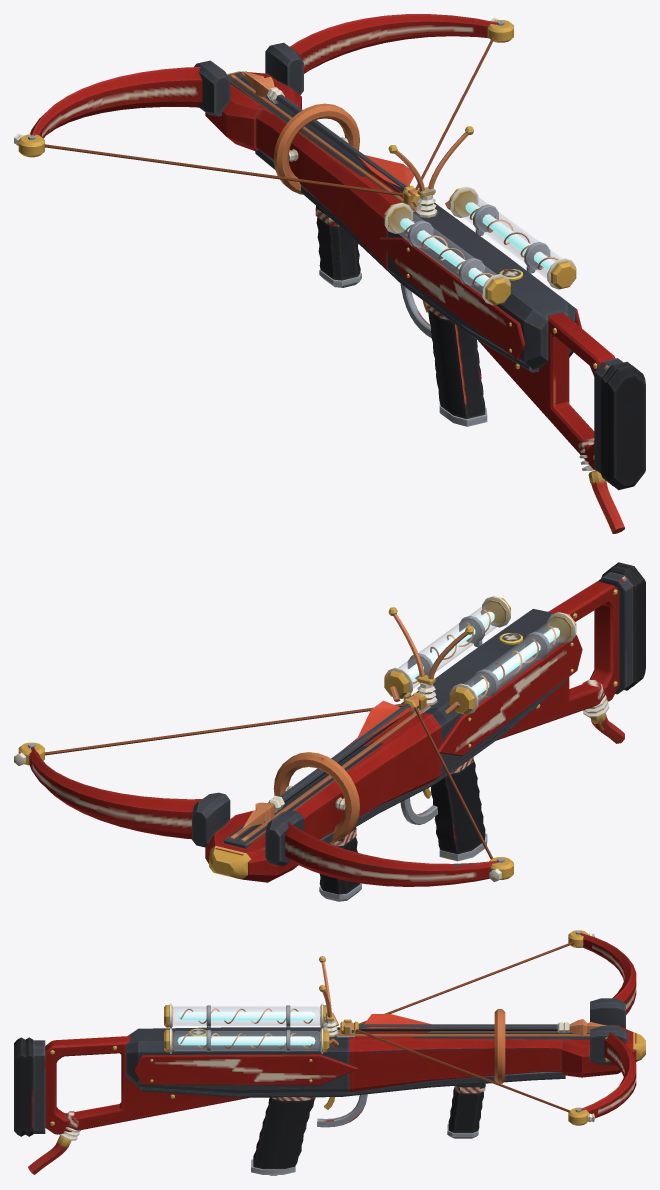
The model's file is stormreel.glb.
3 views of the same model, one above another, from view 1: azimuth 30°, elevation 25°; view 2: azimuth 150°, elevation 25°; view 3: azimuth 270°, elevation 25° (orthographic). The views are drawn at different scales.
Visible parts, largest first — view 1: Stormreel_Body, Prod_L, Prod_R, Capacitor_Glass, Bolt_Mesh, String_L, Charge_R_Core, Charge_L_Core; view 2: Stormreel_Body, Prod_L, Prod_R, Capacitor_Glass, Bolt_Mesh, String_R, Charge_L_Core, Charge_R_Core, String_L; view 3: Stormreel_Body, Capacitor_Glass, Bolt_Mesh, Prod_R, Prod_L, Charge_R_Core, Charge_L_Core, String_R, String_L.
Boxes of the visible parts, left/top/right/bottom form: Stormreel_Body: left=194, top=42, right=645, bottom=533; Prod_L: left=14, top=67, right=202, bottom=157; Prod_R: left=290, top=14, right=513, bottom=73; Capacitor_Glass: left=390, top=192, right=561, bottom=294; Bolt_Mesh: left=243, top=71, right=420, bottom=207; String_L: left=45, top=144, right=402, bottom=195; Charge_R_Core: left=465, top=202, right=554, bottom=270; Charge_L_Core: left=400, top=218, right=489, bottom=286; Stormreel_Body: left=192, top=562, right=645, bottom=901; Prod_L: left=285, top=822, right=513, bottom=886; Prod_R: left=14, top=742, right=201, bottom=839; Capacitor_Glass: left=398, top=602, right=569, bottom=703; Bolt_Mesh: left=242, top=692, right=423, bottom=828; String_R: left=45, top=703, right=402, bottom=755; Charge_L_Core: left=471, top=627, right=559, bottom=695; Charge_R_Core: left=406, top=611, right=494, bottom=679; String_L: left=414, top=707, right=492, bottom=859; Stormreel_Body: left=14, top=956, right=645, bottom=1175; Capacitor_Glass: left=173, top=1006, right=319, bottom=1050; Bolt_Mesh: left=340, top=1014, right=606, bottom=1036; Prod_R: left=568, top=1032, right=636, bottom=1125; Prod_L: left=568, top=930, right=636, bottom=1014; Charge_R_Core: left=177, top=1036, right=315, bottom=1045; Charge_L_Core: left=177, top=1011, right=315, bottom=1020; String_R: left=356, top=1029, right=569, bottom=1112; String_L: left=359, top=942, right=574, bottom=1024.
Size of the model in its own units: 0.5495 by 0.2804 by 0.788.
Materials: 3 (1 with a texture image).
